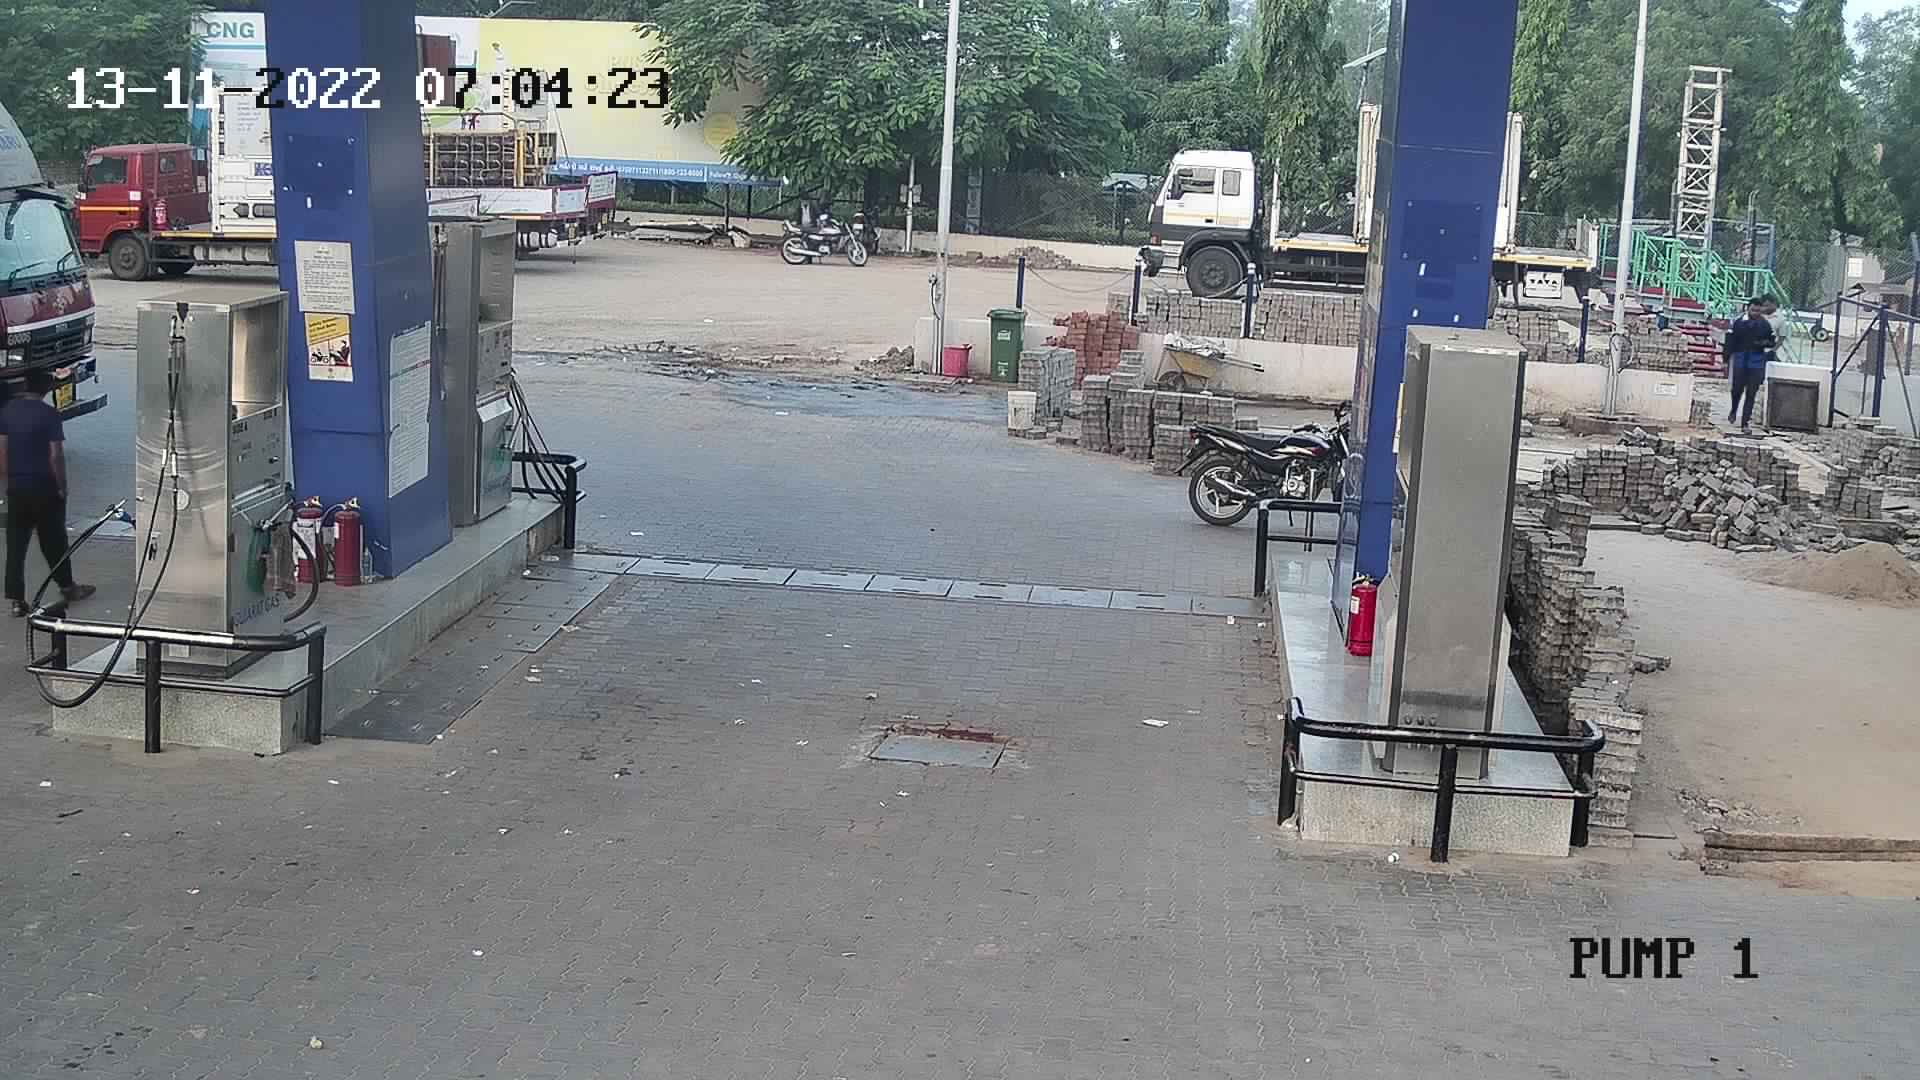Bike: (1174, 392, 1354, 530), (777, 187, 876, 272), (847, 193, 889, 257)
HMV: (1110, 92, 1385, 302), (0, 80, 123, 535), (409, 18, 630, 266), (66, 78, 282, 281)
